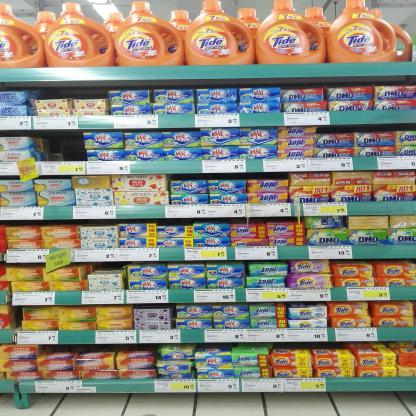Void: (46, 136, 82, 158), (39, 88, 106, 98), (97, 263, 121, 270)
